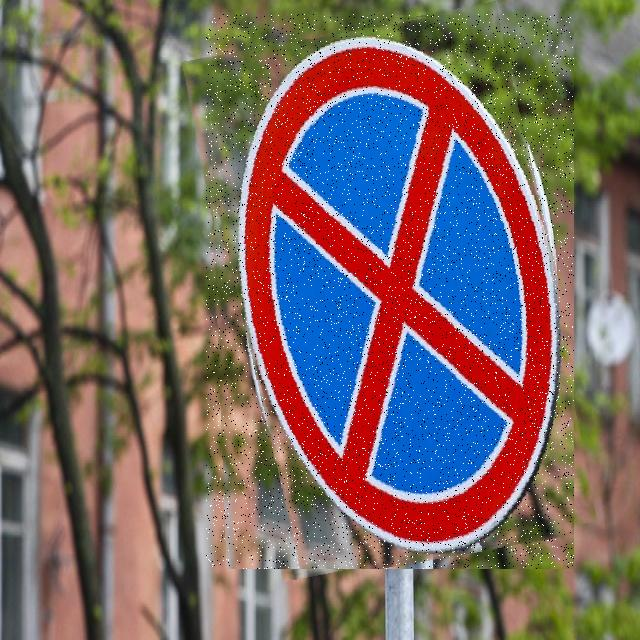no stopping: (206, 14, 574, 569)
